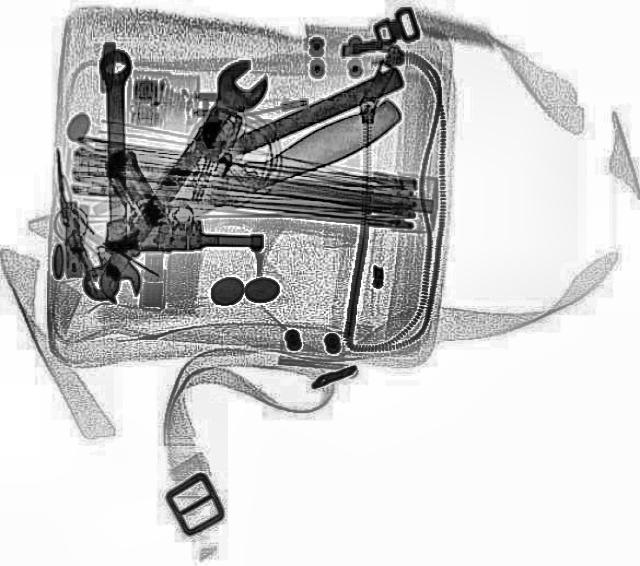Gun: (101, 149, 262, 254)
Knife: (86, 65, 408, 219), (130, 92, 412, 242)
Wrench: (66, 53, 278, 306), (93, 48, 141, 302)
